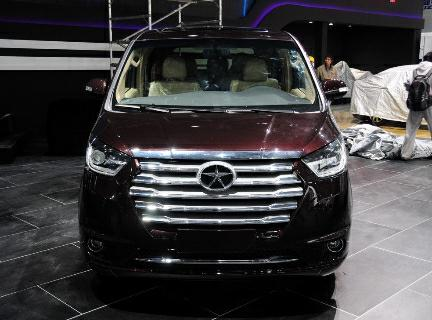江淮-瑞风M6: (73, 24, 358, 280)
